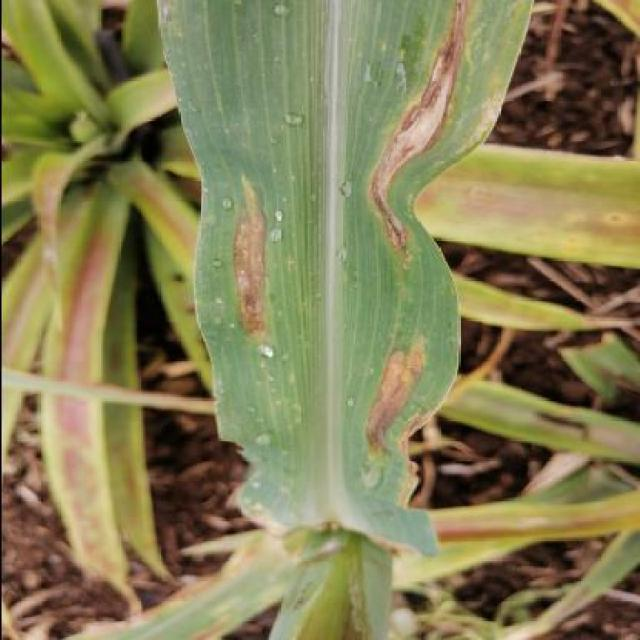Corn_Leaf_Blight: (187, 0, 524, 558)
